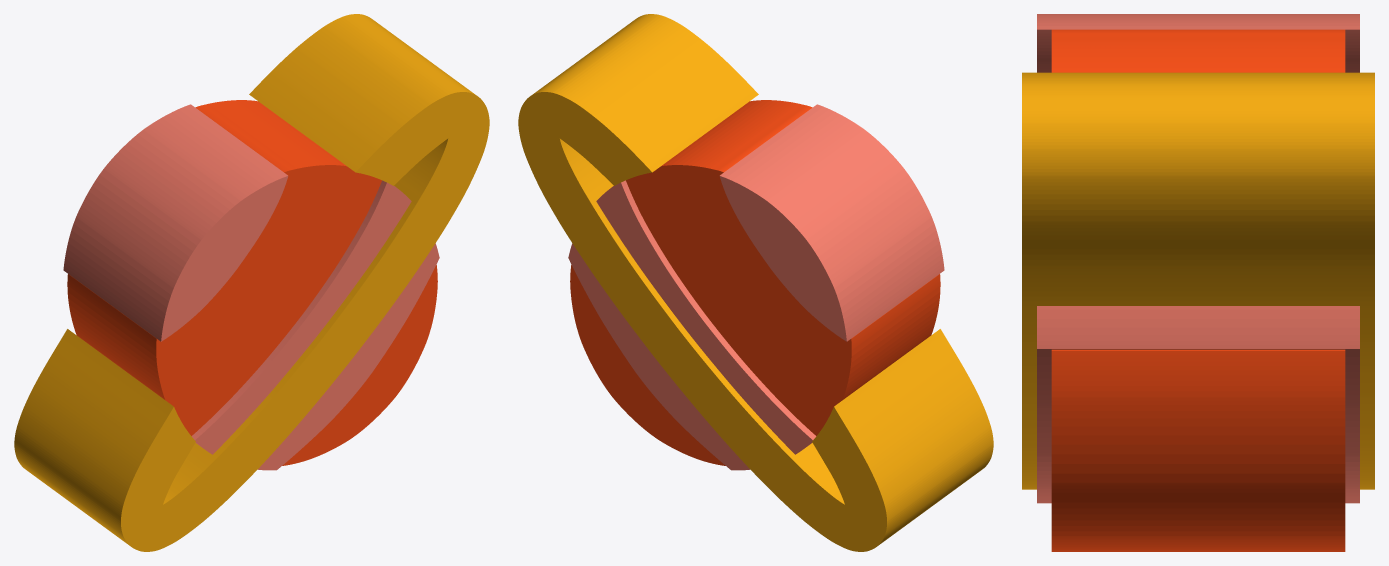
The picture shows the model from 3 angles, left to right: view 1: azimuth 30°, elevation 25°; view 2: azimuth 150°, elevation 25°; view 3: azimuth 270°, elevation 25°; orthographic projection. The views are drawn at different scales.
Visible parts, largest first — view 1: U+1FA90_layer02_obj00, U+1FA90_layer01_obj00, U+1FA90_layer00_obj00; view 2: U+1FA90_layer02_obj00, U+1FA90_layer01_obj00, U+1FA90_layer00_obj00; view 3: U+1FA90_layer02_obj00, U+1FA90_layer00_obj00, U+1FA90_layer01_obj00.
Part boxes in pixels (x1,y1,x2,y2): U+1FA90_layer02_obj00: [14, 14, 489, 551]; U+1FA90_layer01_obj00: [63, 104, 439, 470]; U+1FA90_layer00_obj00: [67, 100, 437, 465]; U+1FA90_layer02_obj00: [518, 14, 993, 551]; U+1FA90_layer01_obj00: [568, 104, 944, 470]; U+1FA90_layer00_obj00: [570, 100, 940, 465]; U+1FA90_layer02_obj00: [1022, 72, 1374, 489]; U+1FA90_layer00_obj00: [1051, 29, 1345, 551]; U+1FA90_layer01_obj00: [1037, 14, 1359, 503].
Size of the model in its own units: 0.4798 by 0.4786 by 0.24.
